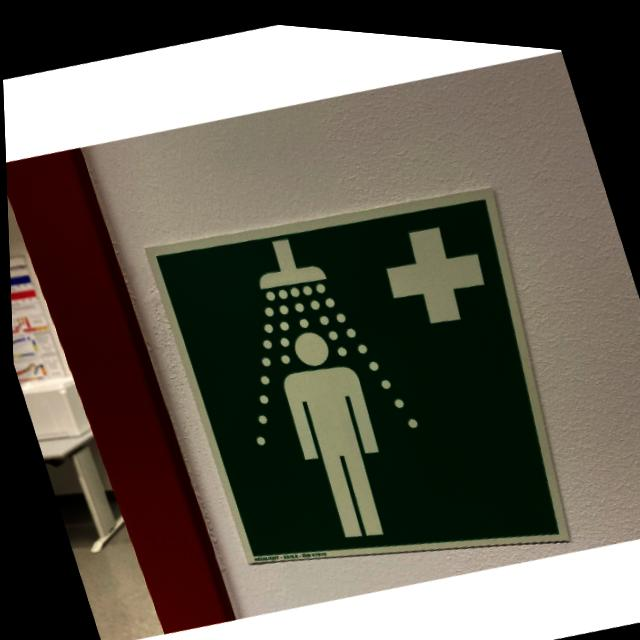shower: (138, 146, 599, 624)
